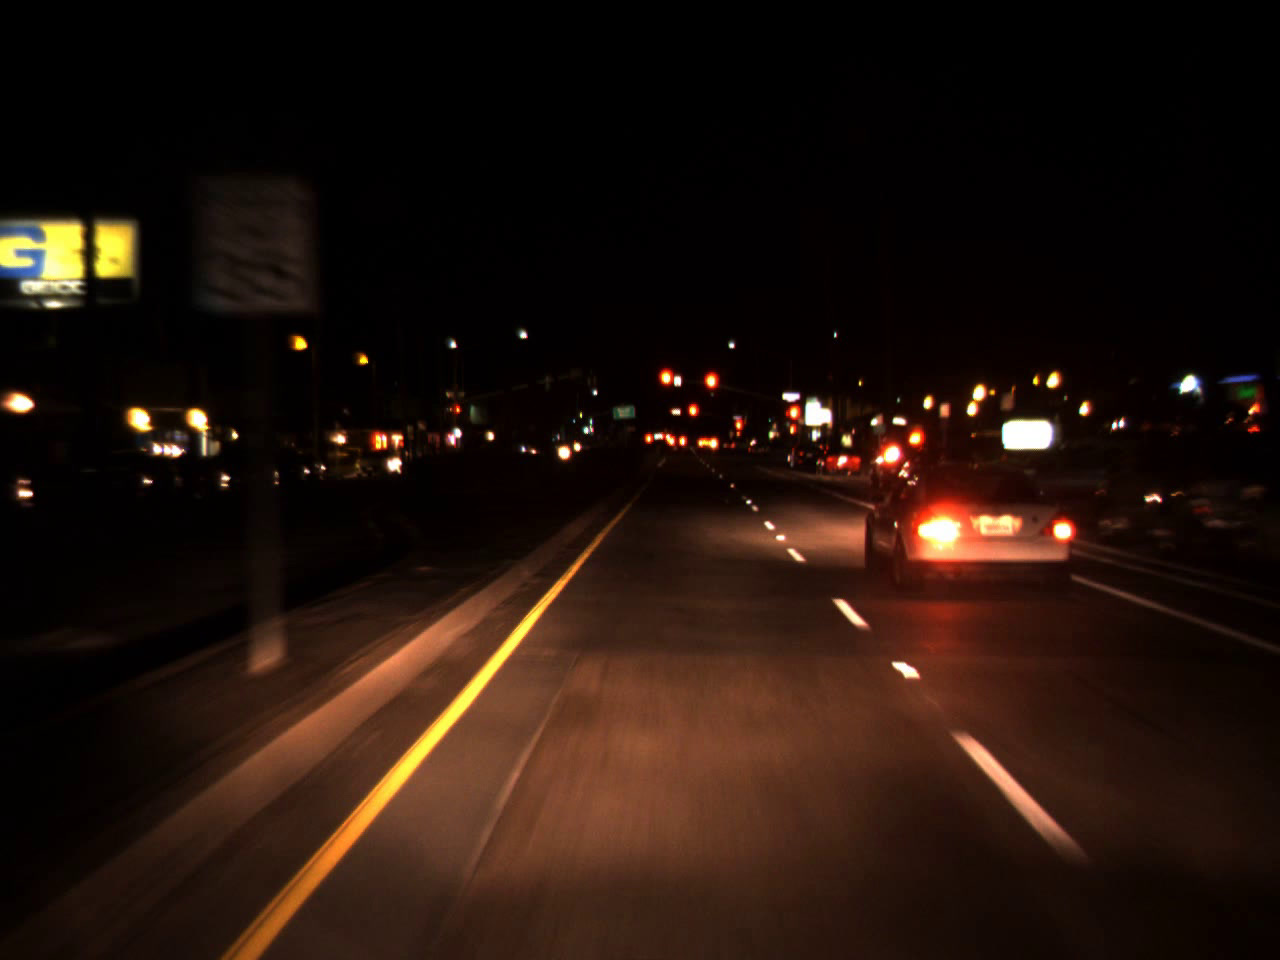stop: (656, 365, 677, 408), (782, 402, 803, 439), (701, 369, 720, 409), (686, 401, 699, 433), (734, 415, 741, 444), (455, 404, 461, 419)
